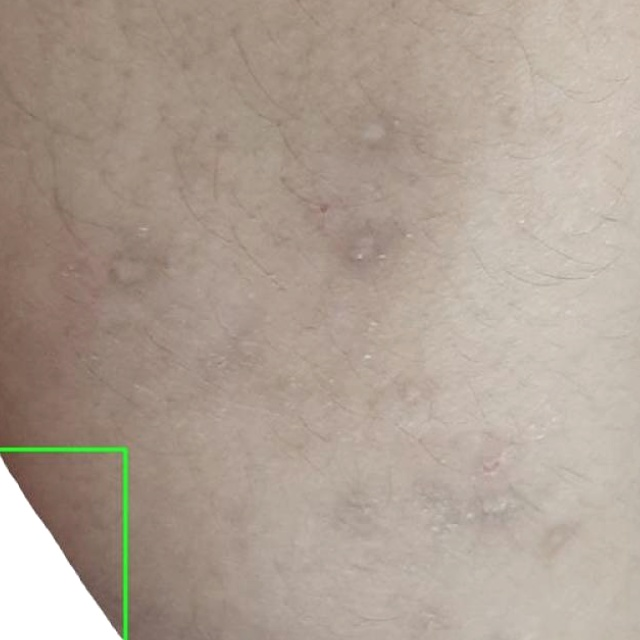Scabies: (0, 449, 125, 639)
